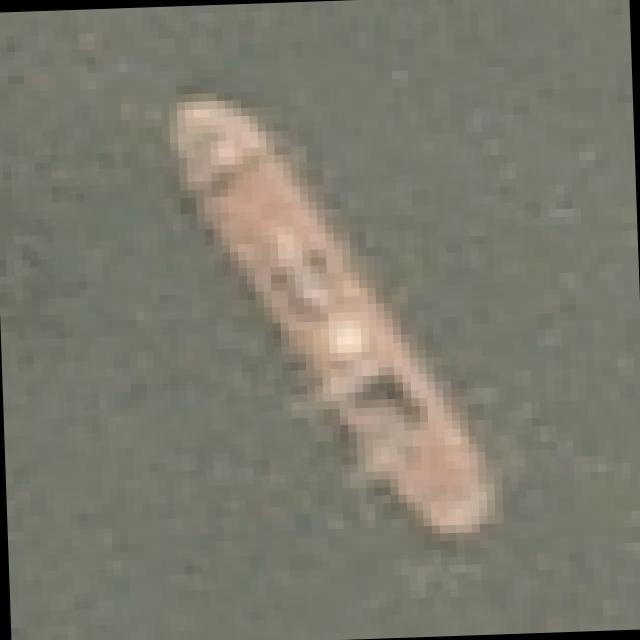ship: (152, 69, 522, 551)
